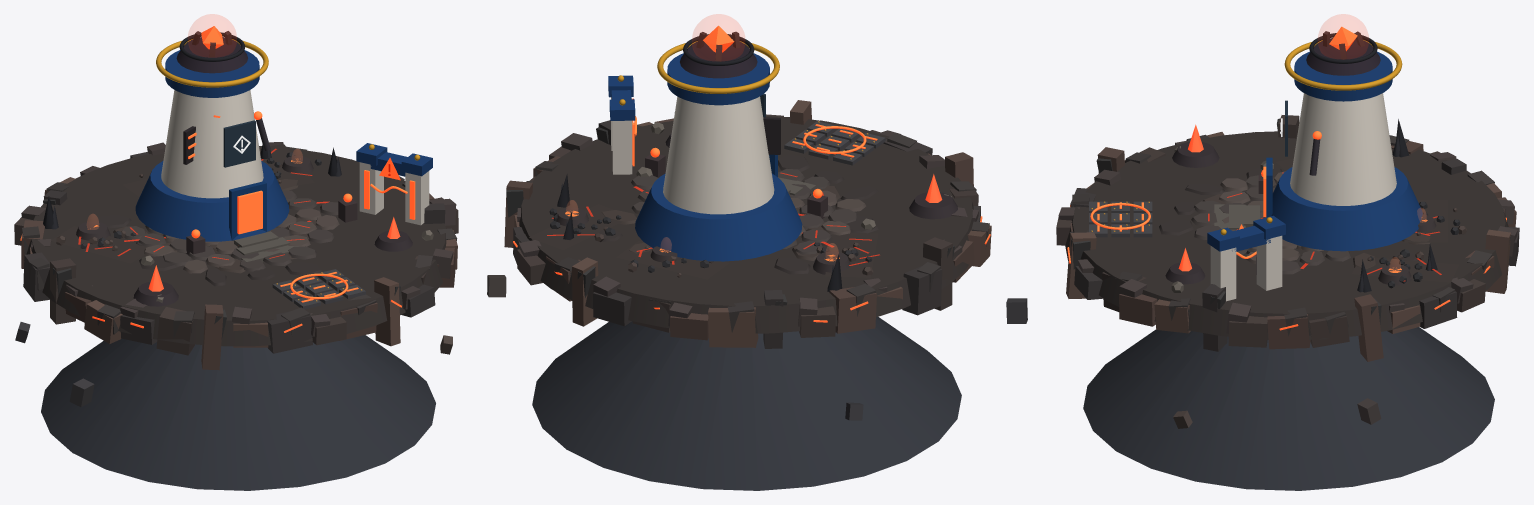
File: island-03-fault__static.glb
The picture shows the model from 3 angles, left to right: view 1: azimuth 30°, elevation 25°; view 2: azimuth 150°, elevation 25°; view 3: azimuth 270°, elevation 25°; orthographic projection. The views are drawn at different scales.
Parts seen in each view (by area): view 1: I03_BASE, I03_MAGMA_SURFACE, I03_TOWER, I03_EDGE_ROCKS, I03_STONE_PLAZA, I03_PORTAL, I03_ASH_LAVA_PATCHES, I03_METAL_PATH, I03_CRYSTALS, I03_MAGMA_VENTS, I03_FLOATING_SHARDS, I03_WARNING_BEACONS (+1 smaller); view 2: I03_BASE, I03_MAGMA_SURFACE, I03_TOWER, I03_EDGE_ROCKS, I03_ASH_LAVA_PATCHES, I03_STONE_PLAZA, I03_PORTAL, I03_METAL_PATH, I03_MAGMA_VENTS, I03_FLOATING_SHARDS, I03_CRYSTALS, I03_WARNING_BEACONS (+2 smaller); view 3: I03_BASE, I03_MAGMA_SURFACE, I03_TOWER, I03_EDGE_ROCKS, I03_PORTAL, I03_STONE_PLAZA, I03_ASH_LAVA_PATCHES, I03_METAL_PATH, I03_CRYSTALS, I03_MAGMA_VENTS, I03_OBSIDIAN_SPIKES, I03_FLOATING_SHARDS.
Part boxes in pixels (x1,y1,x2,y2): I03_BASE: [41, 335, 435, 490]; I03_MAGMA_SURFACE: [24, 146, 446, 346]; I03_TOWER: [135, 14, 298, 262]; I03_EDGE_ROCKS: [14, 142, 458, 370]; I03_STONE_PLAZA: [122, 190, 339, 273]; I03_PORTAL: [356, 143, 432, 225]; I03_ASH_LAVA_PATCHES: [51, 144, 321, 263]; I03_METAL_PATH: [272, 269, 365, 309]; I03_CRYSTALS: [133, 217, 412, 306]; I03_MAGMA_VENTS: [76, 149, 313, 240]; I03_FLOATING_SHARDS: [15, 322, 452, 407]; I03_WARNING_BEACONS: [186, 193, 357, 254]; I03_BASE: [532, 317, 961, 490]; I03_MAGMA_SURFACE: [519, 116, 973, 333]; I03_TOWER: [635, 14, 815, 261]; I03_EDGE_ROCKS: [504, 100, 991, 348]; I03_ASH_LAVA_PATCHES: [529, 204, 879, 279]; I03_STONE_PLAZA: [631, 168, 866, 254]; I03_PORTAL: [608, 75, 636, 174]; I03_METAL_PATH: [784, 121, 885, 165]; I03_MAGMA_VENTS: [556, 200, 850, 274]; I03_FLOATING_SHARDS: [487, 275, 1027, 420]; I03_CRYSTALS: [665, 133, 957, 219]; I03_WARNING_BEACONS: [645, 147, 827, 218]; I03_BASE: [1083, 327, 1494, 490]; I03_MAGMA_SURFACE: [1065, 131, 1508, 339]; I03_TOWER: [1214, 14, 1422, 251]; I03_EDGE_ROCKS: [1056, 115, 1519, 361]; I03_PORTAL: [1207, 215, 1285, 301]; I03_STONE_PLAZA: [1191, 171, 1350, 274]; I03_ASH_LAVA_PATCHES: [1276, 158, 1466, 288]; I03_METAL_PATH: [1089, 201, 1152, 237]; I03_CRYSTALS: [1165, 124, 1219, 284]; I03_MAGMA_VENTS: [1378, 208, 1436, 285]; I03_OBSIDIAN_SPIKES: [1357, 119, 1437, 292]; I03_FLOATING_SHARDS: [1173, 398, 1381, 428].
Bounding box in the file's own units: 9.62 × 8.25 × 8.95.
